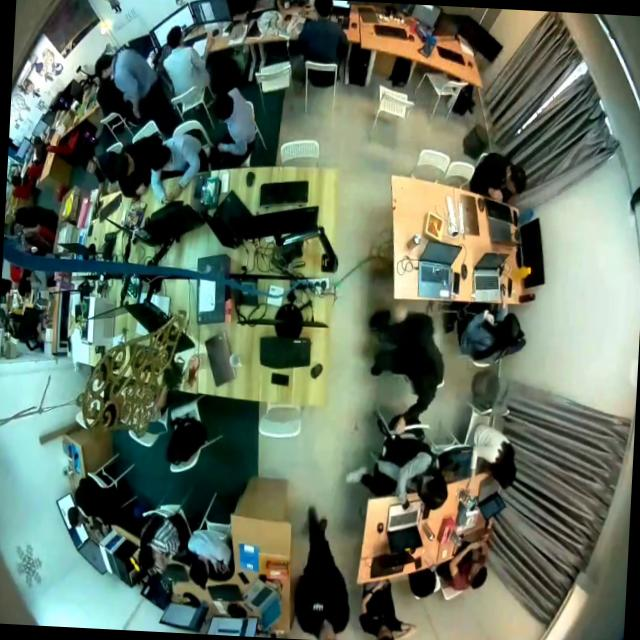employee_tag: (312, 602, 325, 612)
